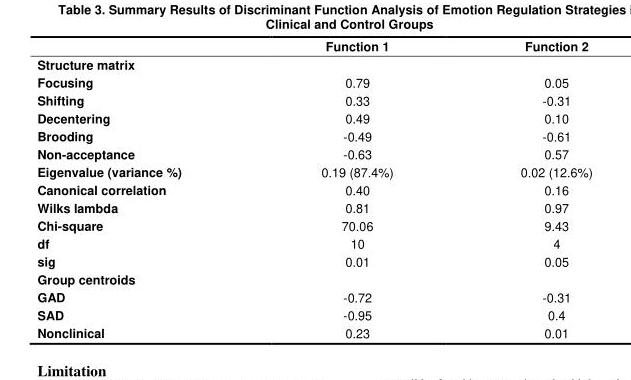table: (36, 36, 591, 340)
table column: (36, 36, 250, 340), (250, 36, 456, 340), (456, 36, 591, 340)
table column header: (36, 36, 591, 54)
table projected row header: (36, 54, 591, 72), (36, 269, 591, 287)
table row: (36, 36, 591, 54), (36, 54, 591, 72), (36, 72, 591, 90), (36, 90, 591, 108), (36, 108, 591, 126), (36, 126, 591, 144), (36, 144, 591, 162), (36, 162, 591, 180), (36, 180, 591, 198), (36, 198, 591, 216), (36, 233, 591, 251), (36, 251, 591, 269), (36, 269, 591, 287), (36, 287, 591, 305), (36, 305, 591, 323), (36, 216, 591, 233), (36, 323, 591, 340)
